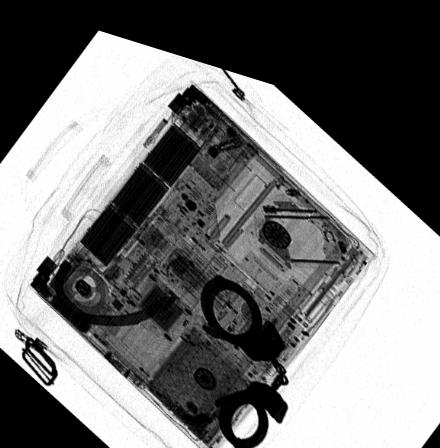HandCuffs: (197, 259, 292, 439)
